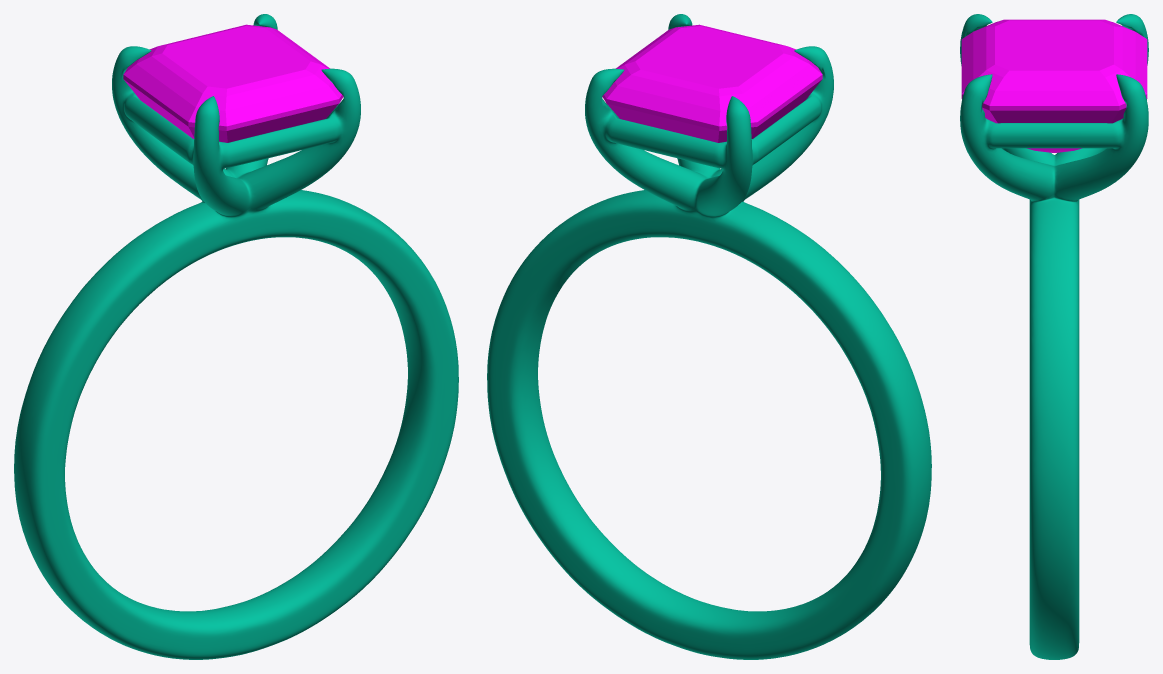
Rendered from BE1FM13_AS_200ct_RENDER.glb.
3 views of the same model, side by side, from view 1: azimuth 30°, elevation 25°; view 2: azimuth 150°, elevation 25°; view 3: azimuth 270°, elevation 25° (orthographic).
Parts seen in each view (by area): view 1: Metal 01, CS_Diamond_Asscher; view 2: Metal 01, CS_Diamond_Asscher; view 3: Metal 01, CS_Diamond_Asscher.
Boxes of the visible parts, x1,y1,x2,y2 form: Metal 01: (14,14,458,659); CS_Diamond_Asscher: (123,24,343,142); Metal 01: (487,14,931,659); CS_Diamond_Asscher: (602,24,822,142); Metal 01: (960,14,1148,659); CS_Diamond_Asscher: (961,19,1147,152).
Size of the model in its own units: 20.09 by 26.36 by 7.63.
